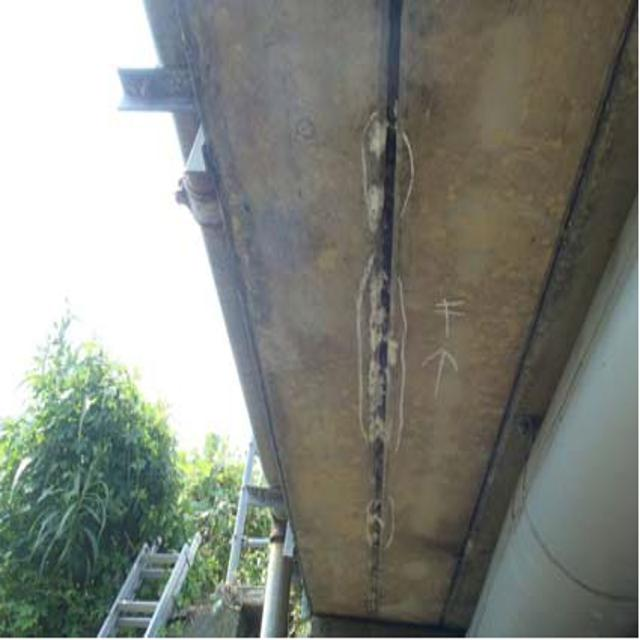freelime: (353, 120, 414, 474)
